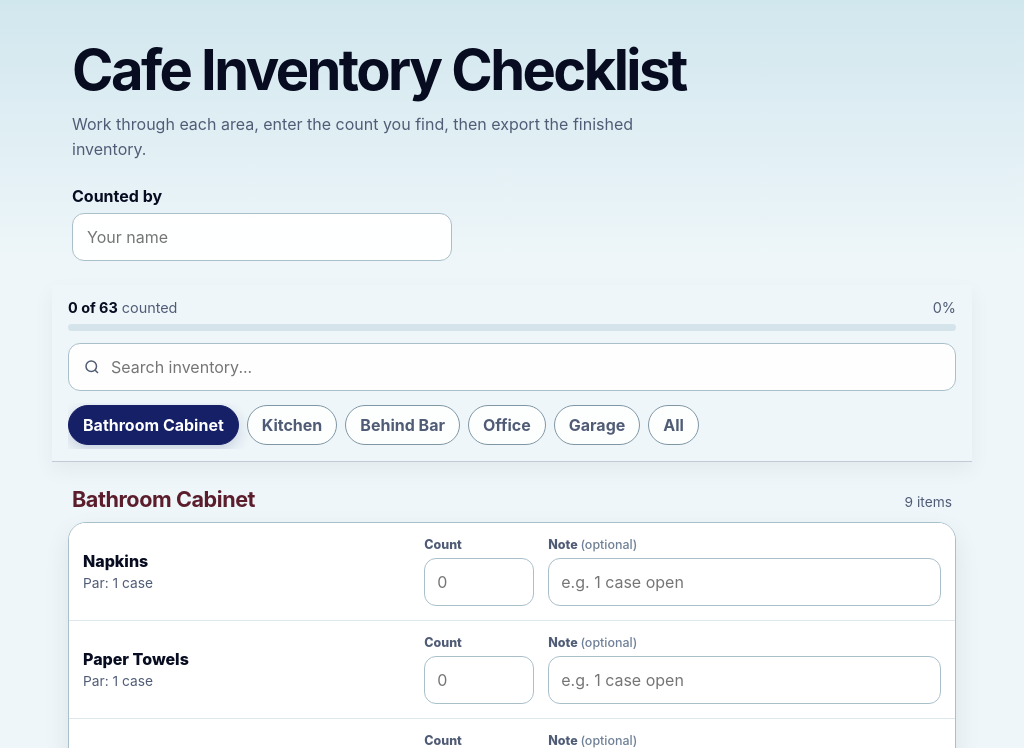
Scenario: App › searches only the active section unless All is selected
This screenshot has width=1024, height=748.
Type "oat milk" into the search field labelled "Search inventory" at (512, 367), box [68,343,956,391]
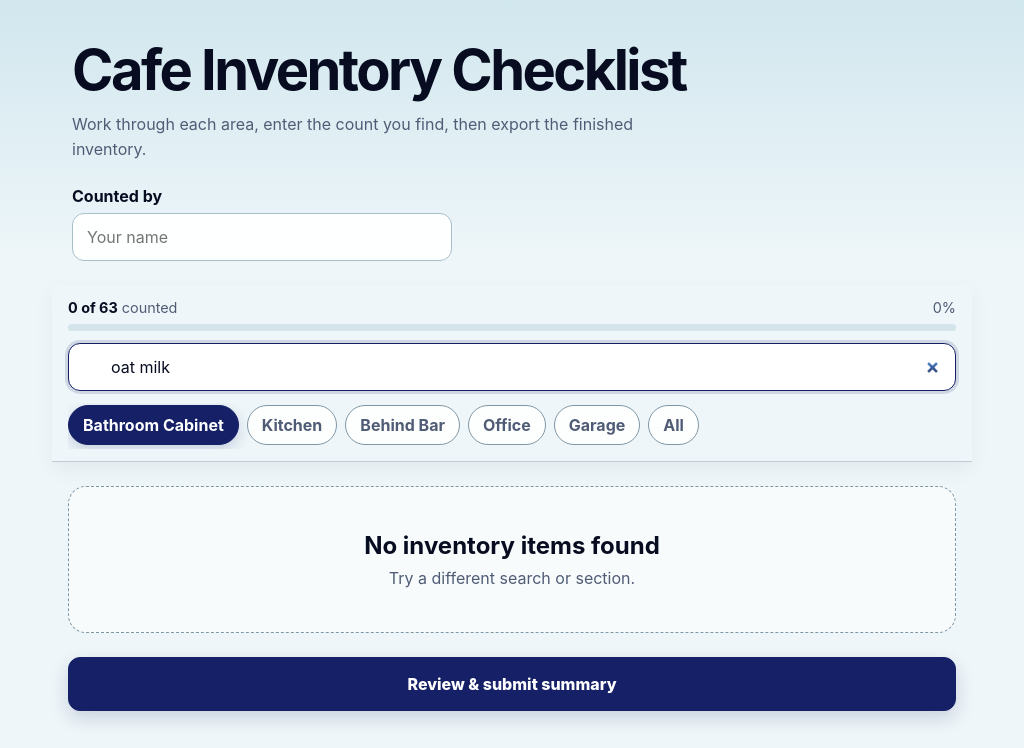
Check: the heading "No inventory items found" is shown, box [364,531,660,560]
Click the button "All" at (674, 425), box [648,405,699,445]
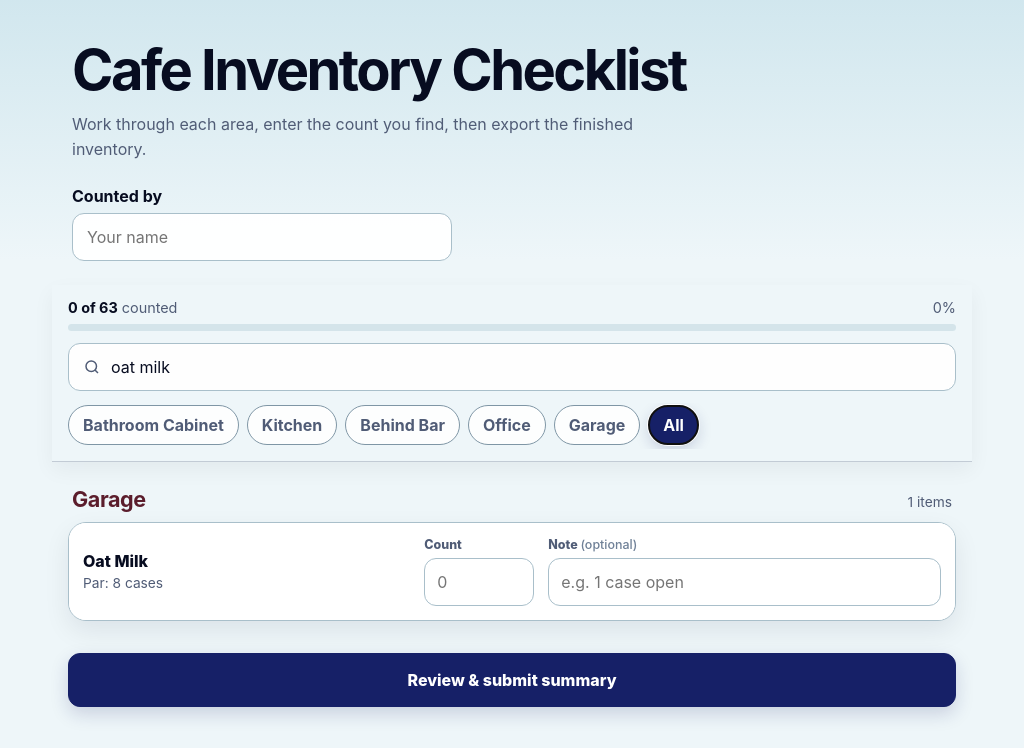
Check: the text "Oat Milk" is shown, box [83,551,148,571]
